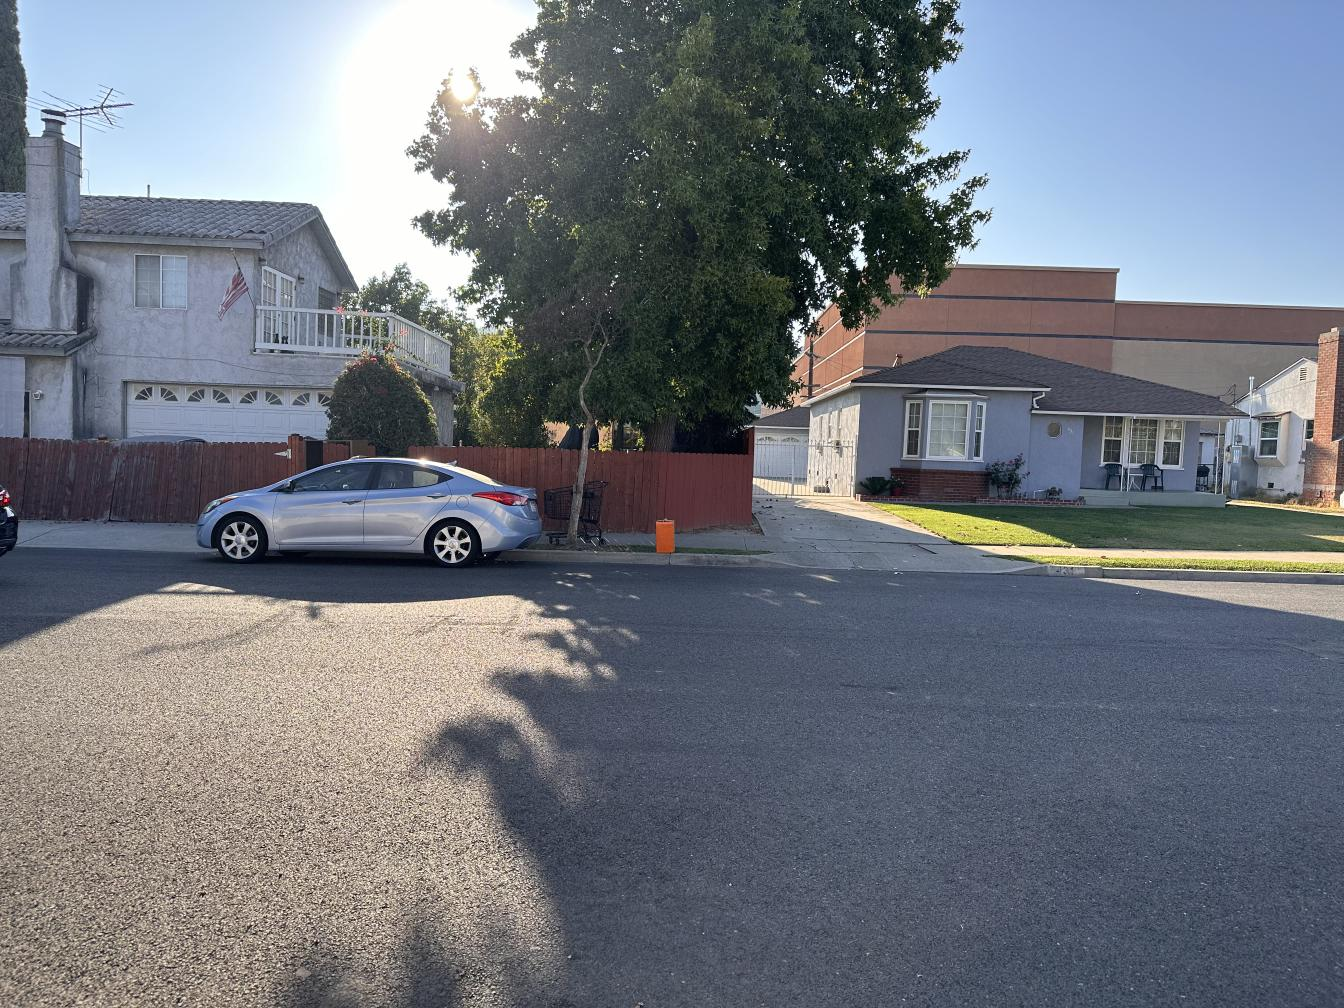curbs-laRr: (542, 551, 749, 568), (1085, 568, 1231, 581), (1230, 572, 1344, 585)
orange box: (656, 520, 675, 553)
